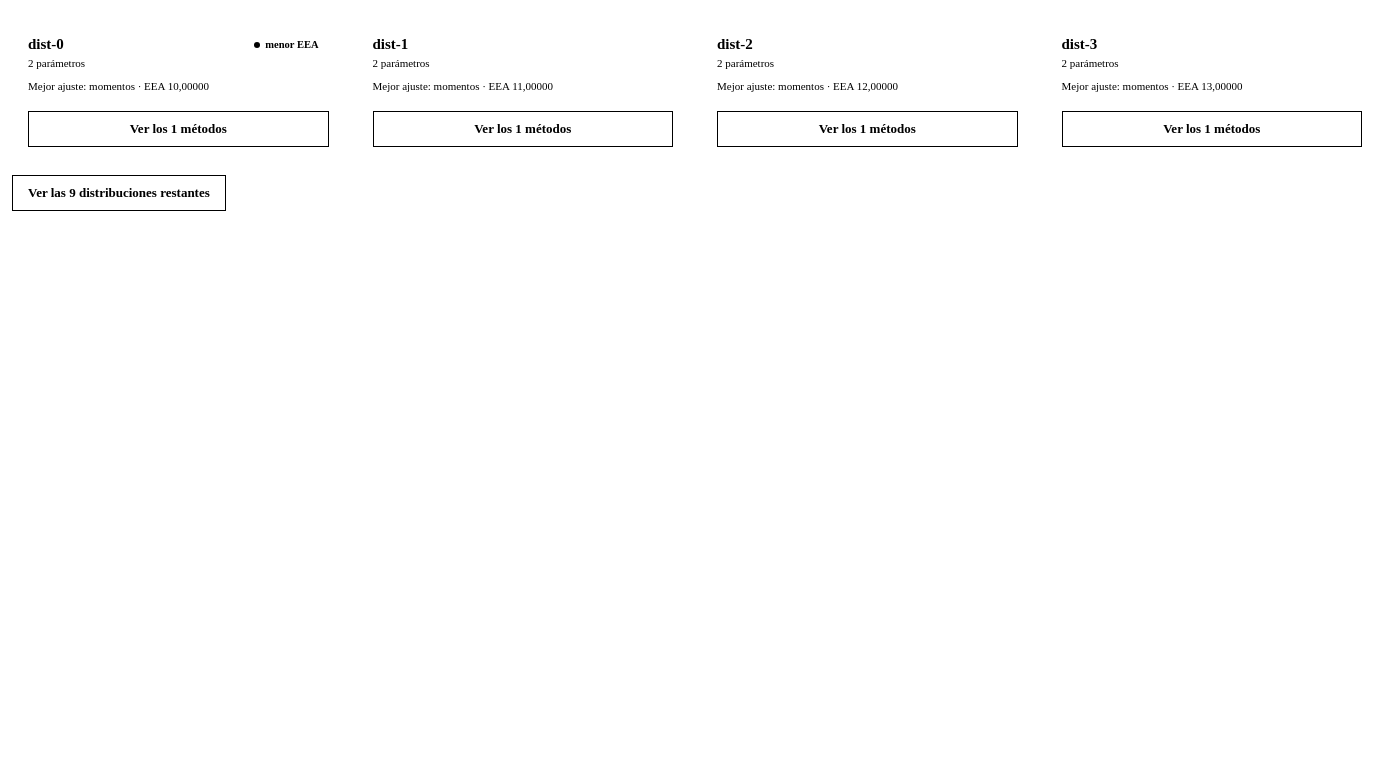
Test case: Etapa2RankingView › F3 — muestra solo las primeras 4 distribuciones y un botón para ver el resto
Check: the heading "dist-0" is shown, box [28,36,64,53]
Check: the heading "dist-3" is shown, box [1062,36,1097,53]
Click the button "Ver las 9 distribuciones restantes": click(119, 193) [12,175,226,211]
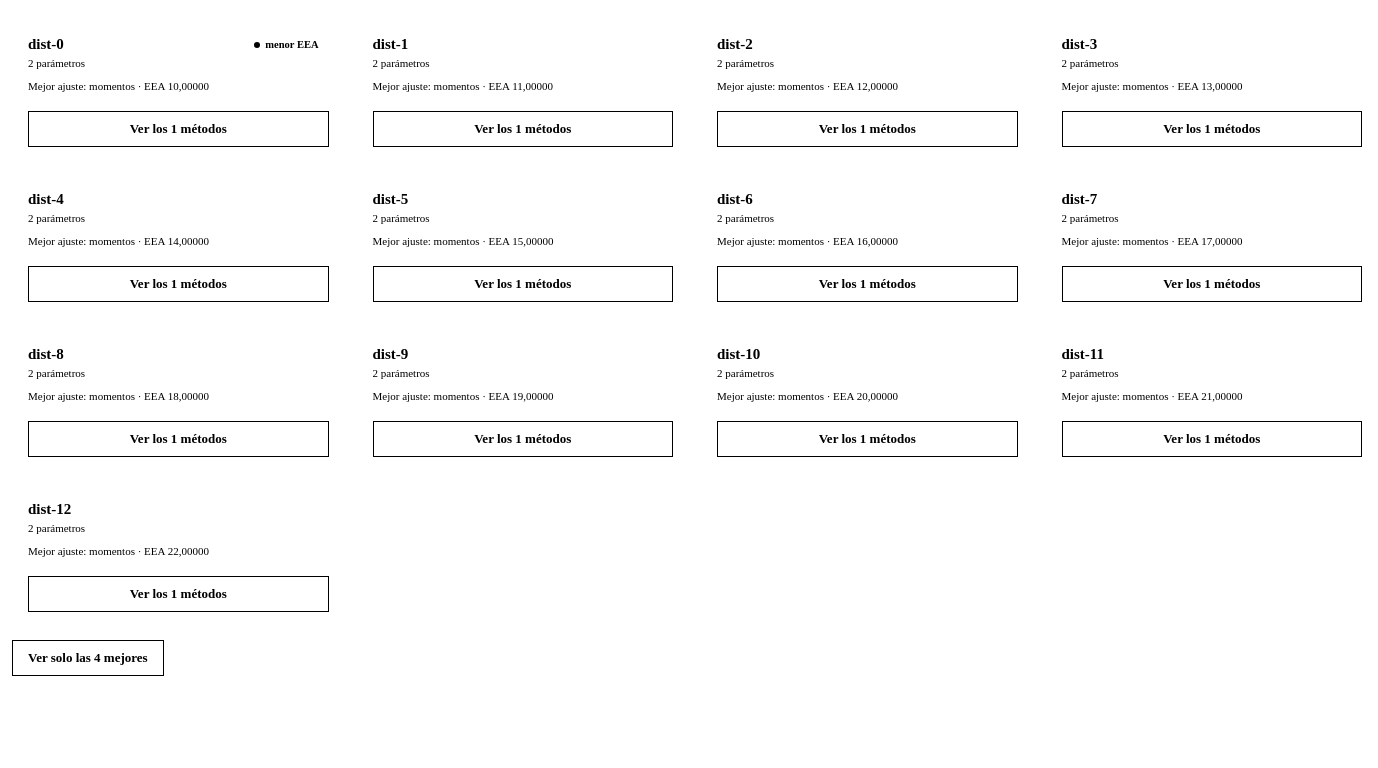
Check: the heading "dist-4" is shown, box [28,191,64,208]
Check: the heading "dist-12" is shown, box [28,501,71,518]
Check: the button "Ver solo las 4 mejores" is shown, box [12,640,164,676]
